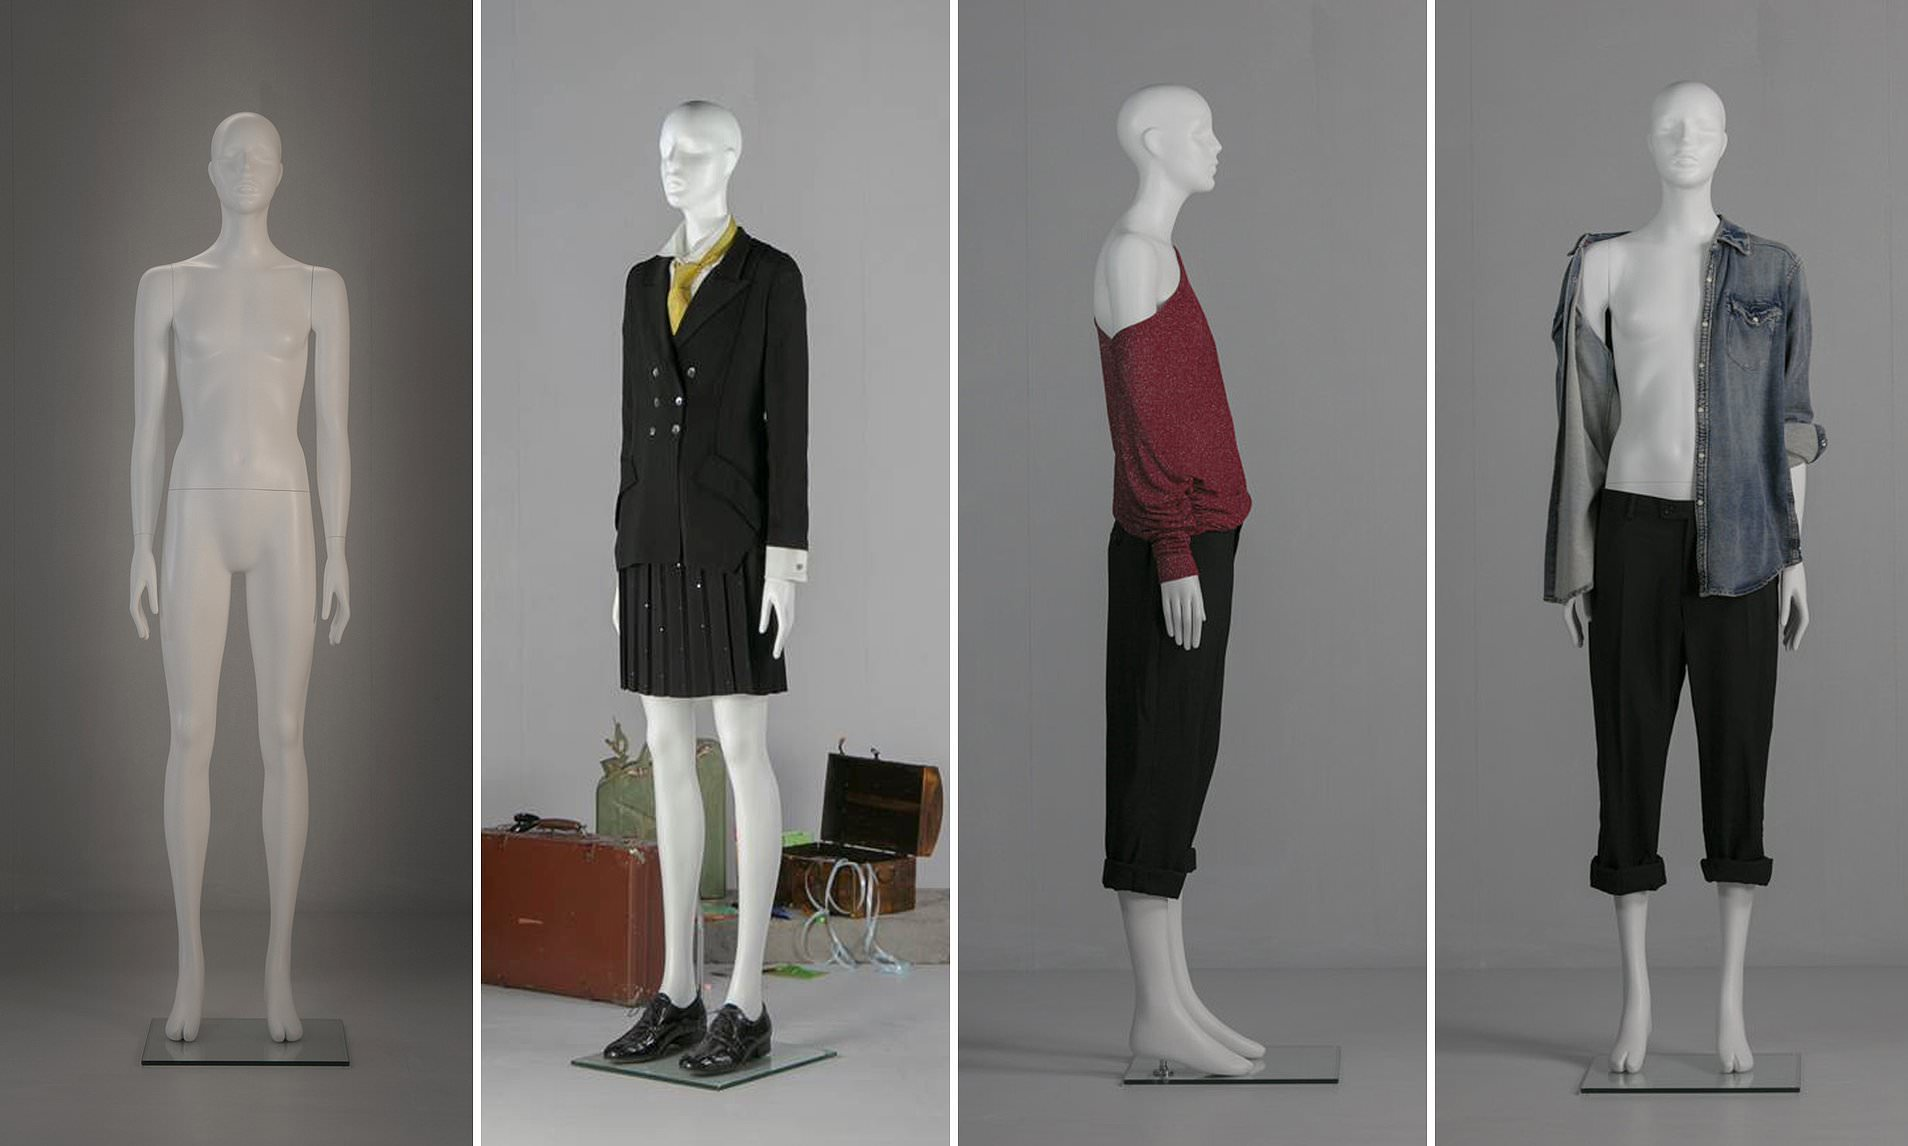person-like: (1529, 70, 1838, 1087), (110, 95, 371, 1051), (591, 82, 826, 1081), (1067, 66, 1284, 1089)
